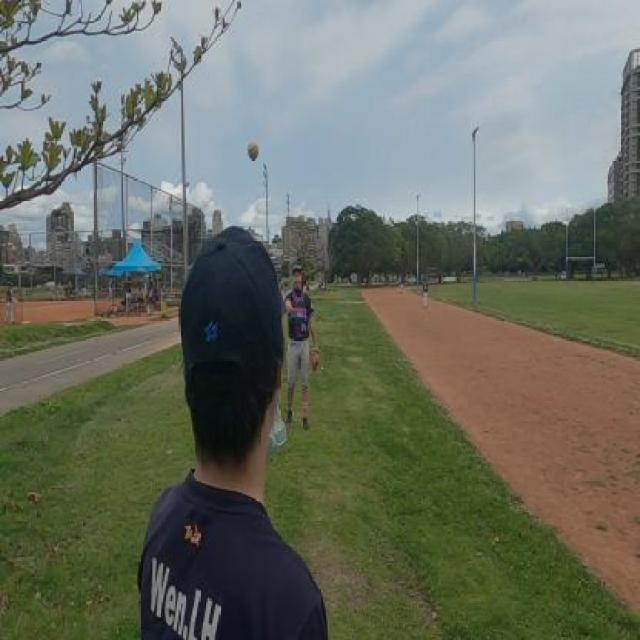baseball: (248, 141, 258, 161)
